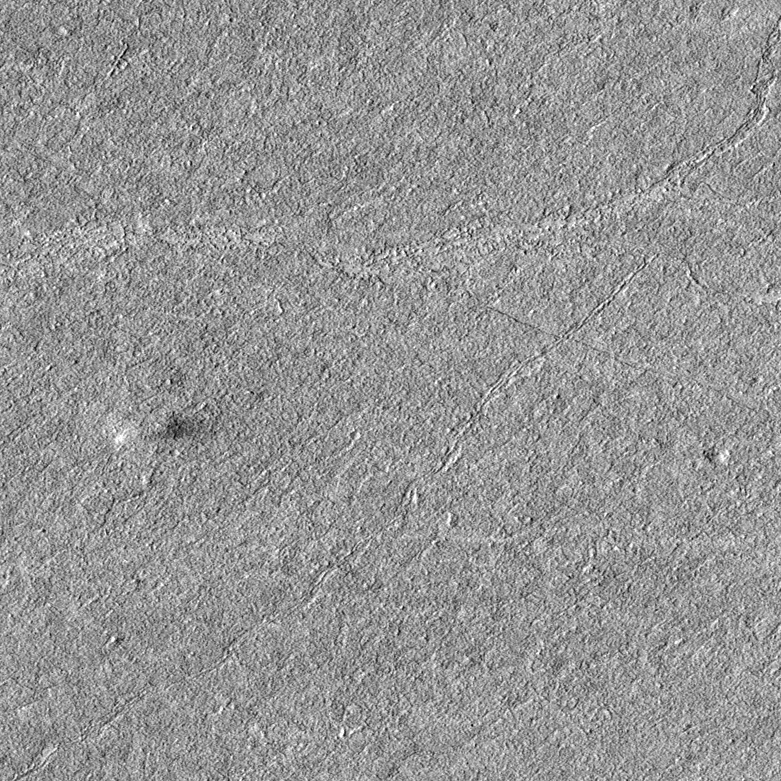dust_devil: (110, 410, 214, 455)
